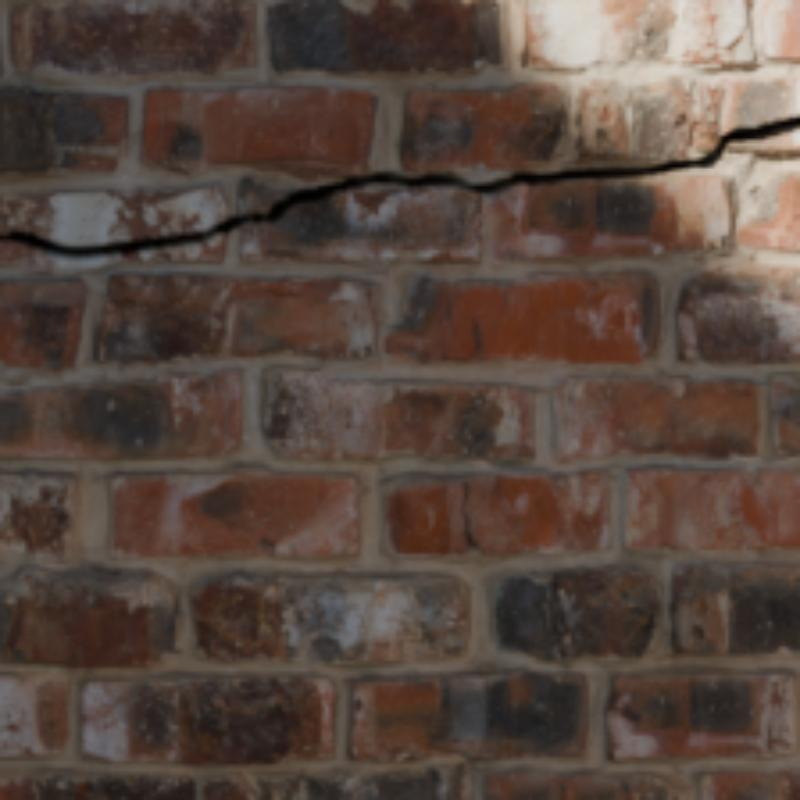crack: (0, 114, 796, 257), (461, 479, 479, 554)
